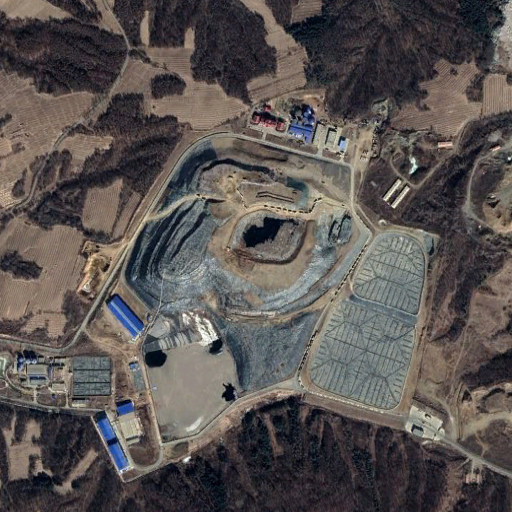lf: (125, 134, 370, 397)
